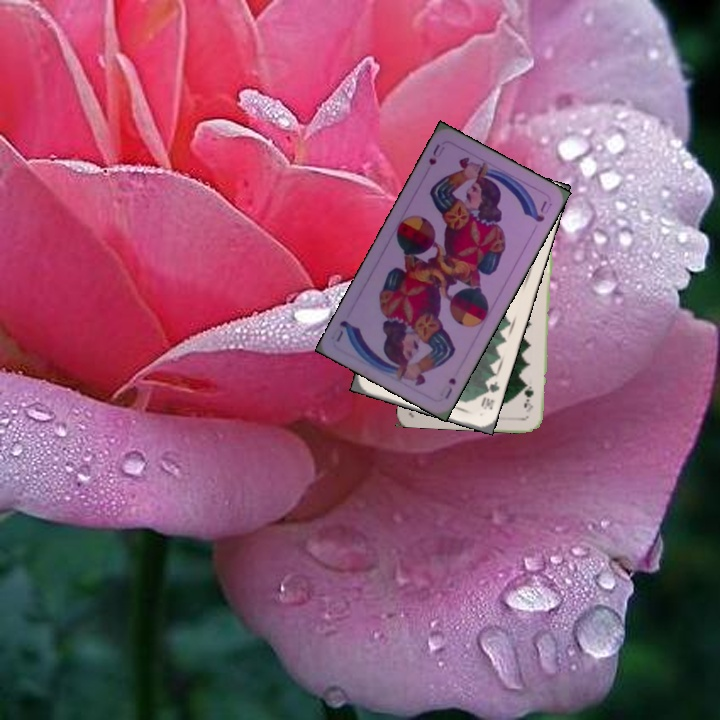G10: (477, 377, 502, 412)
G9: (521, 380, 536, 414)
SU: (425, 140, 447, 168), (441, 373, 459, 402)
